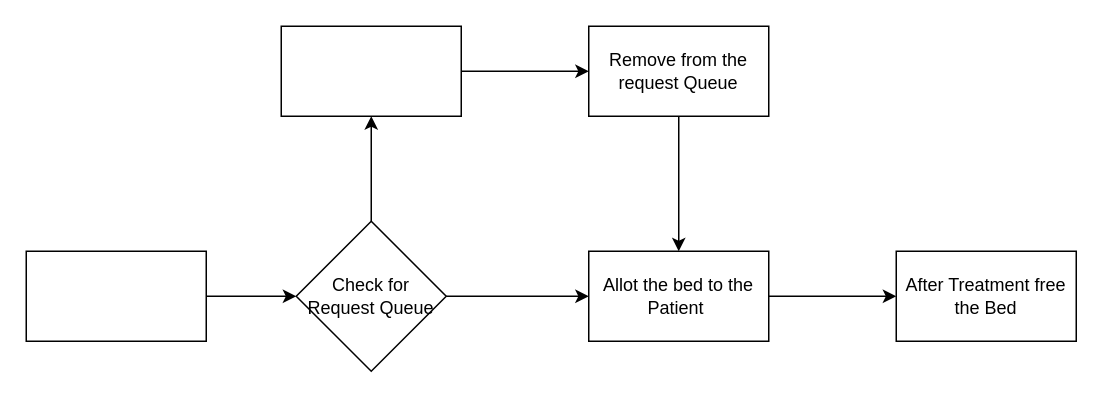
Image size: 1103x398. Some labels were removed from this diagram. The centre of each missing label's shape, as x and y in pixels:
"Add into the Request queue" goes at point (370, 70).
"Patient Admiite" goes at point (115, 295).
